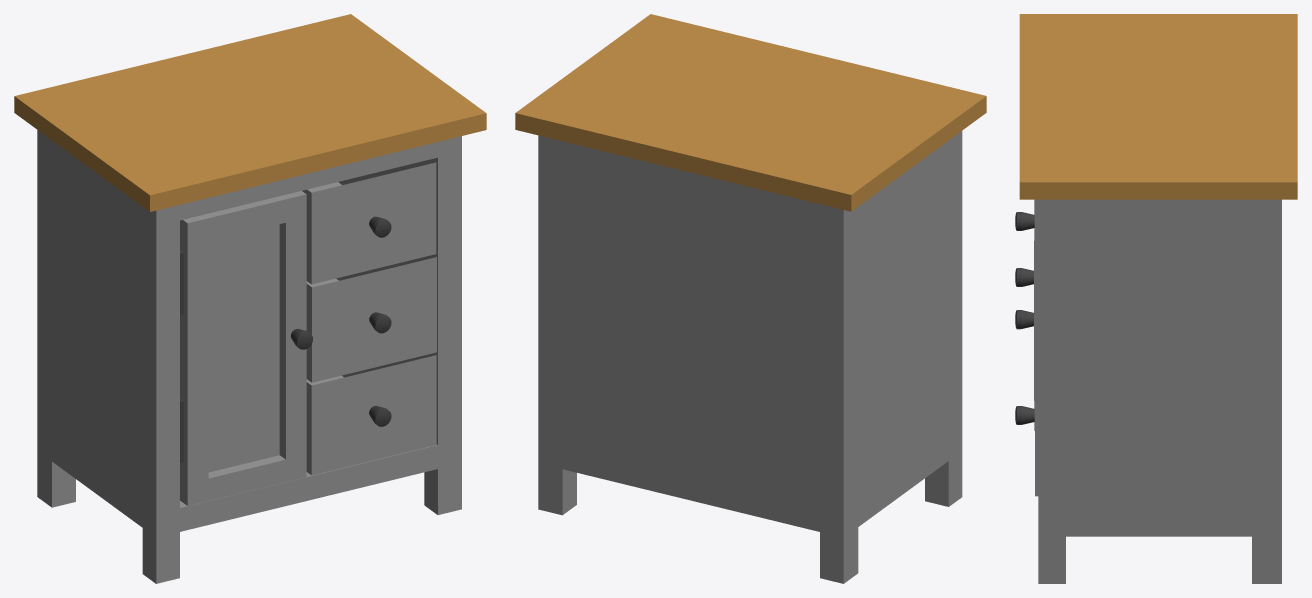
Rendered from cabinet_with_drawers.glb.
The picture shows the model from 3 angles, left to right: view 1: azimuth 30°, elevation 25°; view 2: azimuth 150°, elevation 25°; view 3: azimuth 270°, elevation 25°; orthographic projection. The views are drawn at different scales.
Visible parts, largest first — view 1: Cabinet_Base_01, Wooden_Platform, Door_001, Drawer_02, Drawer_01, Drawer_03; view 2: Cabinet_Base_01, Wooden_Platform; view 3: Cabinet_Base_01, Wooden_Platform, Drawer_02, Drawer_01, Drawer_03.
Part boxes in pixels (box(x1,y1,x2,y2)): Cabinet_Base_01: box(37, 130, 461, 583); Wooden_Platform: box(14, 14, 486, 211); Door_001: box(180, 191, 306, 505); Drawer_02: box(306, 254, 436, 382); Drawer_01: box(302, 159, 436, 284); Drawer_03: box(306, 353, 436, 475); Cabinet_Base_01: box(538, 131, 962, 583); Wooden_Platform: box(515, 14, 986, 211); Cabinet_Base_01: box(1038, 199, 1281, 583); Wooden_Platform: box(1019, 14, 1297, 199); Drawer_02: box(1034, 240, 1038, 400); Drawer_01: box(1035, 199, 1038, 300); Drawer_03: box(1035, 401, 1038, 496).
Bounding box in the file's own units: 0.1748 × 0.1981 × 0.1239.
